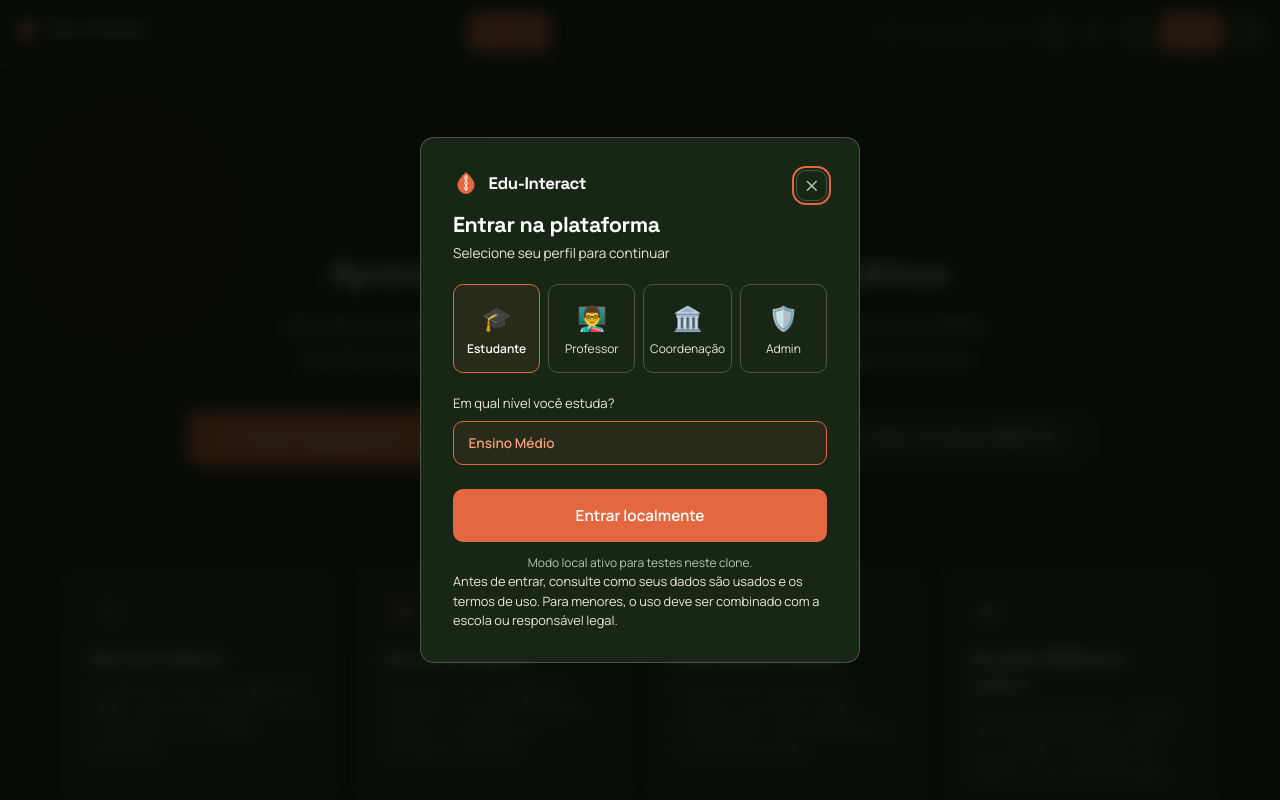
Test: login continuity › lets the user dismiss a requested login without reopening it
Press Escape in the dialog, box [420, 137, 860, 663]
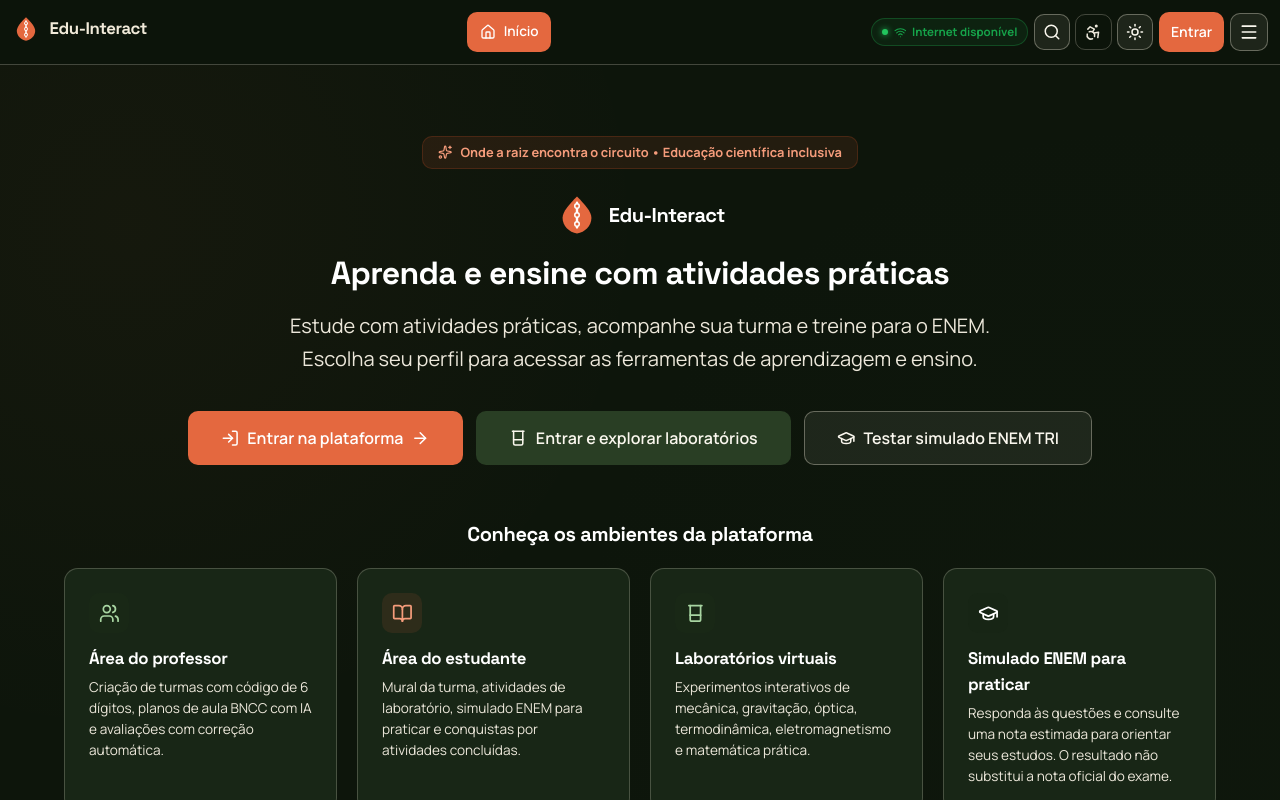
Now the dialog is gone
Click the button "Entrar" at (1192, 32), box [1159, 12, 1224, 52]
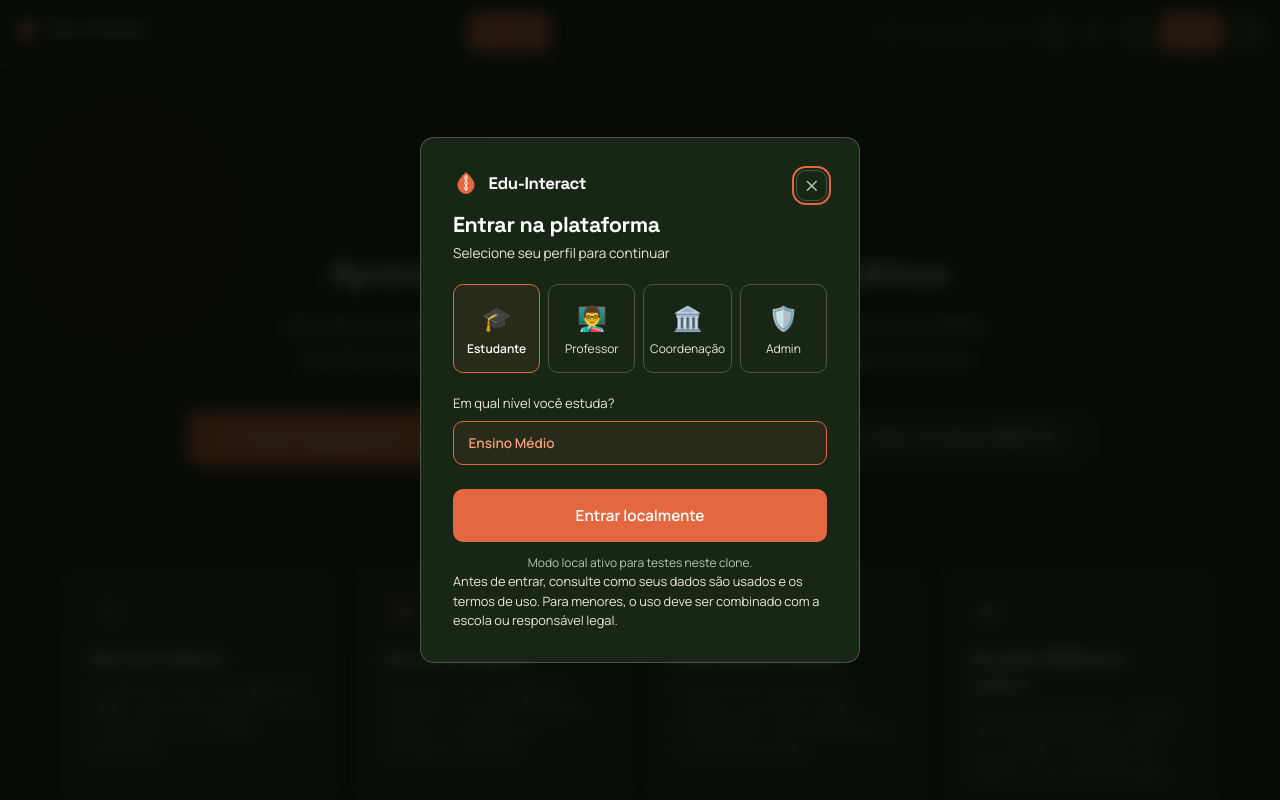
Now the dialog is shown, box [420, 137, 860, 663]
Click the button named "Fechar acesso" at (812, 185), box [796, 170, 827, 201]
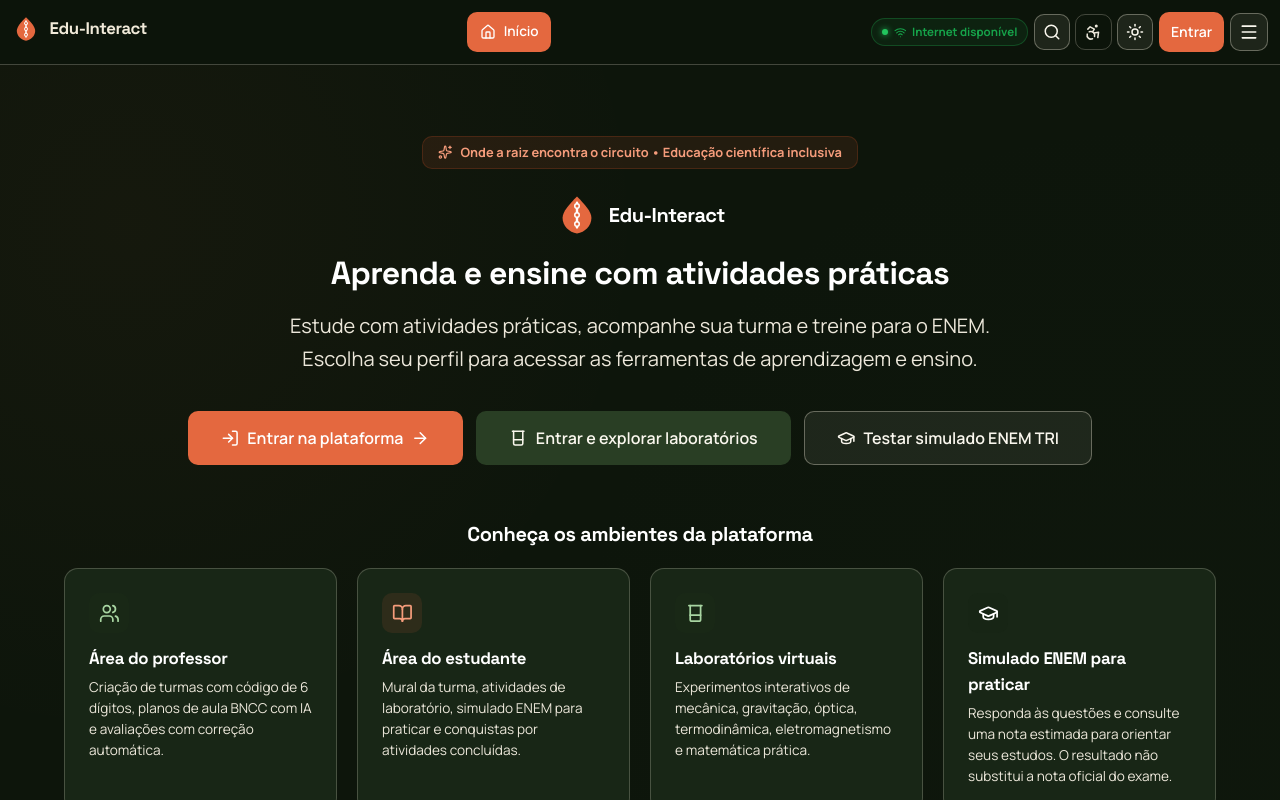
Now the dialog is gone
